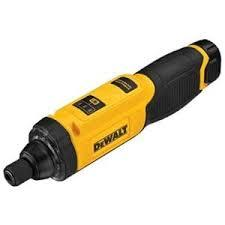screwdriver: (3, 37, 224, 186)
